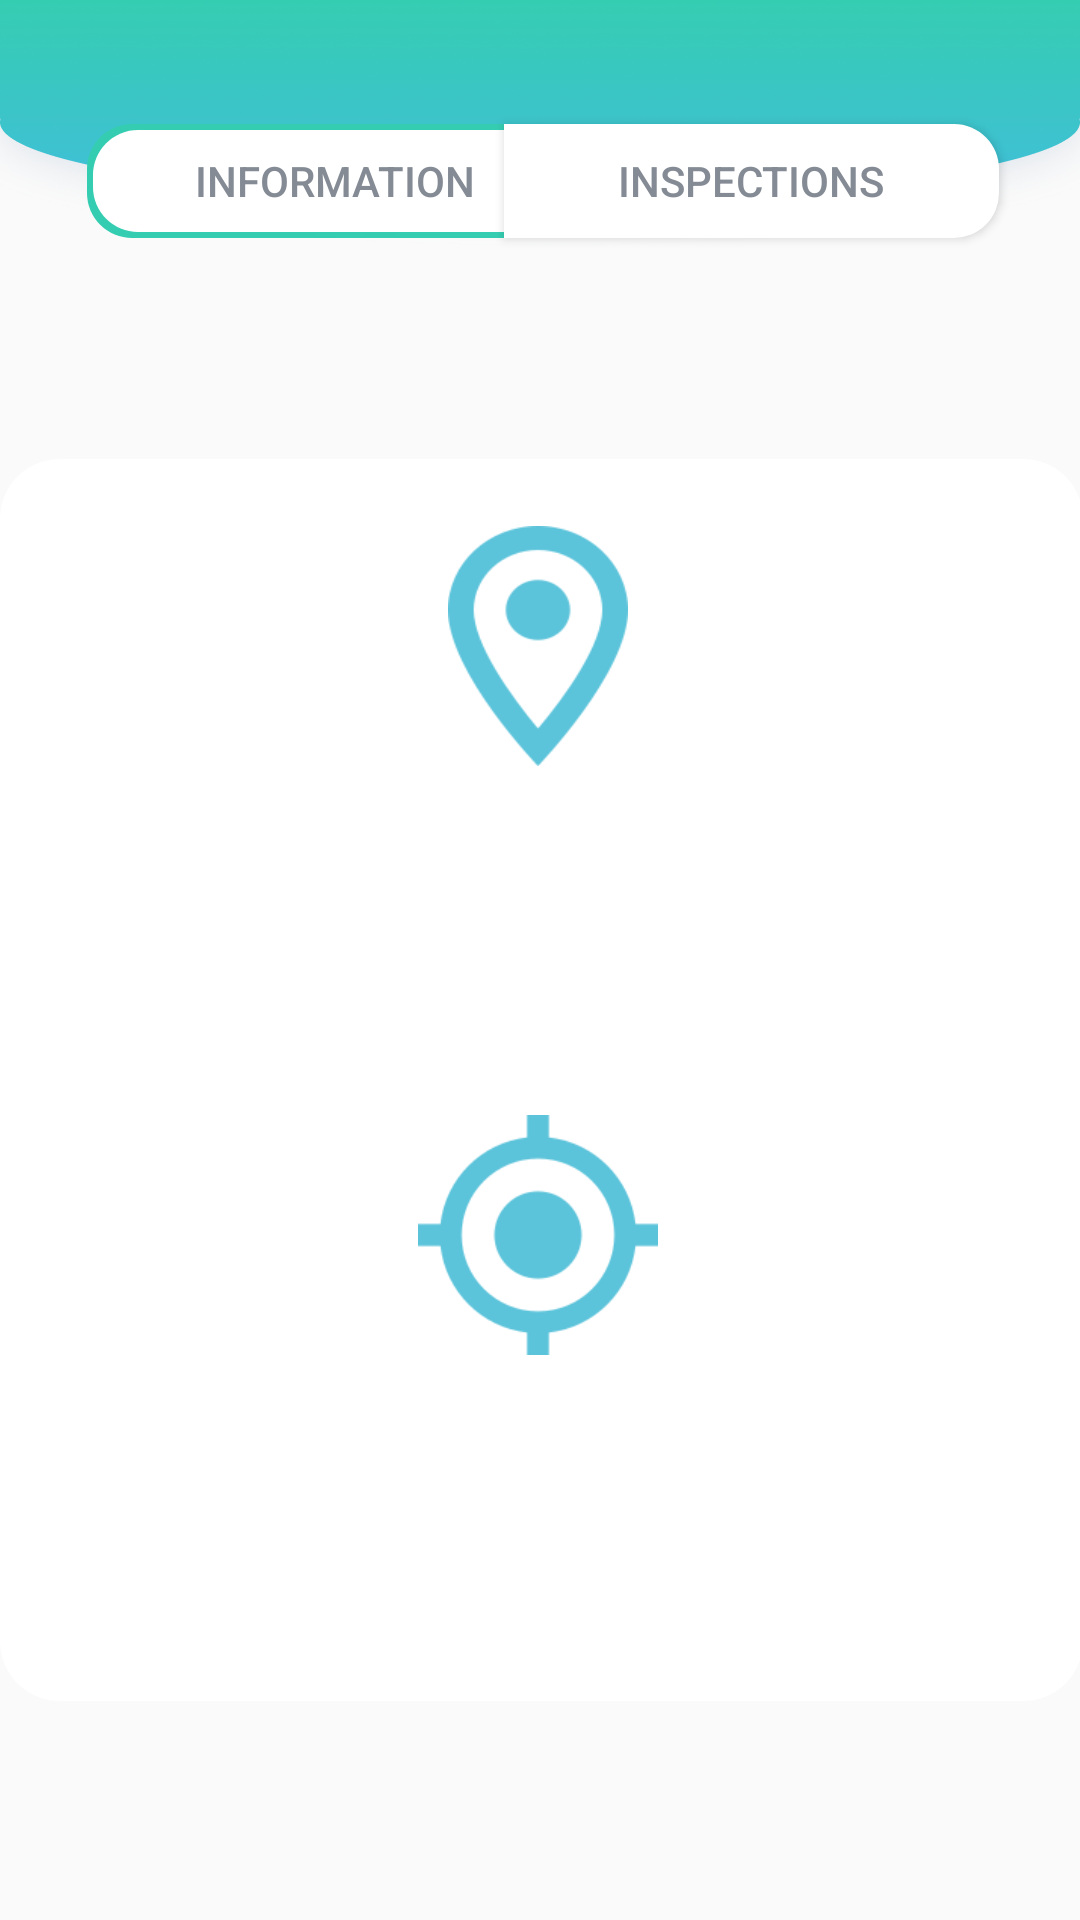

Screen size 1080w x 1920h. Icon name, then its center in pixels as [x,y]:
address: [538,646]
coordinates: [538,1235]
